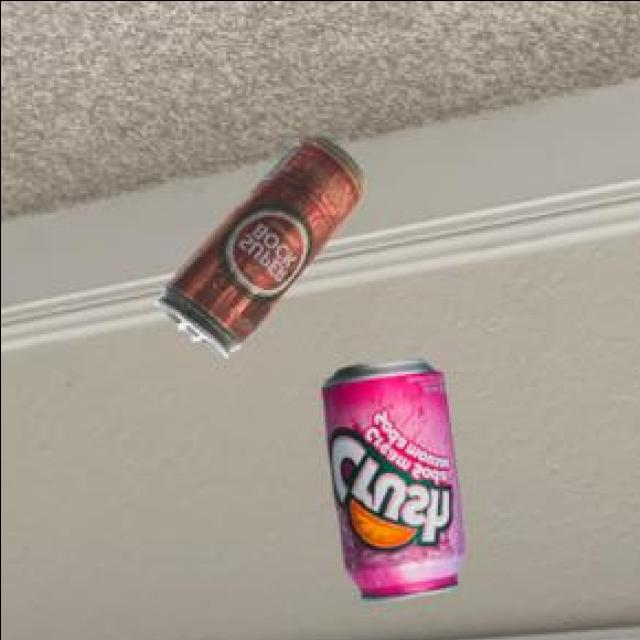logam: (151, 138, 361, 359), (319, 363, 460, 604)
